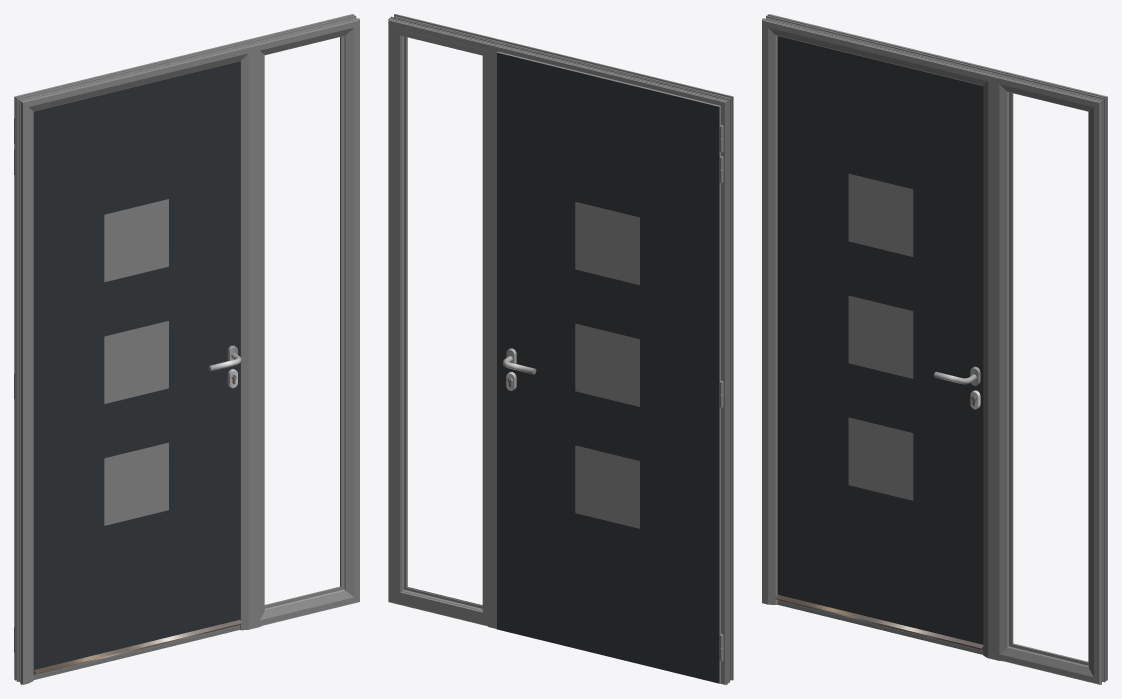
3 views of the same model, side by side, from view 1: azimuth 30°, elevation 25°; view 2: azimuth 150°, elevation 25°; view 3: azimuth 330°, elevation 25° (orthographic).
Visible parts, largest first — view 1: bloco_159, Rectangle002, Line004, Vidro Porta, Object, Object001, Line005, Rectangle005, Rectangle003; view 2: bloco_159, Rectangle002, Vidro Porta, Rectangle003, Line004, Object001, Rectangle004, Object; view 3: bloco_159, Rectangle002, Line004, Vidro Porta, Object001, Object, Line005, Rectangle003, Rectangle005.
Part boxes in pixels (box(x1,y1,x2,y2)): bloco_159: box(33, 61, 240, 671); Rectangle002: box(14, 14, 359, 684); Line004: box(240, 46, 264, 630); Vidro Porta: box(104, 199, 168, 525); Object: box(33, 35, 346, 680); Object001: box(264, 36, 344, 608); Line005: box(33, 620, 242, 674); Rectangle005: box(33, 625, 240, 679); Rectangle003: box(264, 37, 340, 605); bloco_159: box(497, 52, 719, 683); Rectangle002: box(388, 14, 733, 684); Vidro Porta: box(575, 202, 639, 528); Rectangle003: box(394, 28, 487, 619); Line004: box(488, 41, 504, 628); Object001: box(401, 36, 482, 610); Rectangle004: box(496, 51, 720, 683); Object: box(404, 36, 482, 608); bloco_159: box(777, 36, 983, 644); Rectangle002: box(762, 14, 1107, 684); Line004: box(983, 77, 1007, 661); Vidro Porta: box(848, 173, 913, 500); Object001: box(1007, 92, 1088, 665); Object: box(776, 35, 1088, 667); Line005: box(775, 595, 983, 649); Rectangle003: box(1012, 93, 1087, 662); Rectangle005: box(777, 600, 983, 654).
Bounding box in the file's own units: 1307 × 2150 × 192.
Materials: 7 (4 with a texture image).
